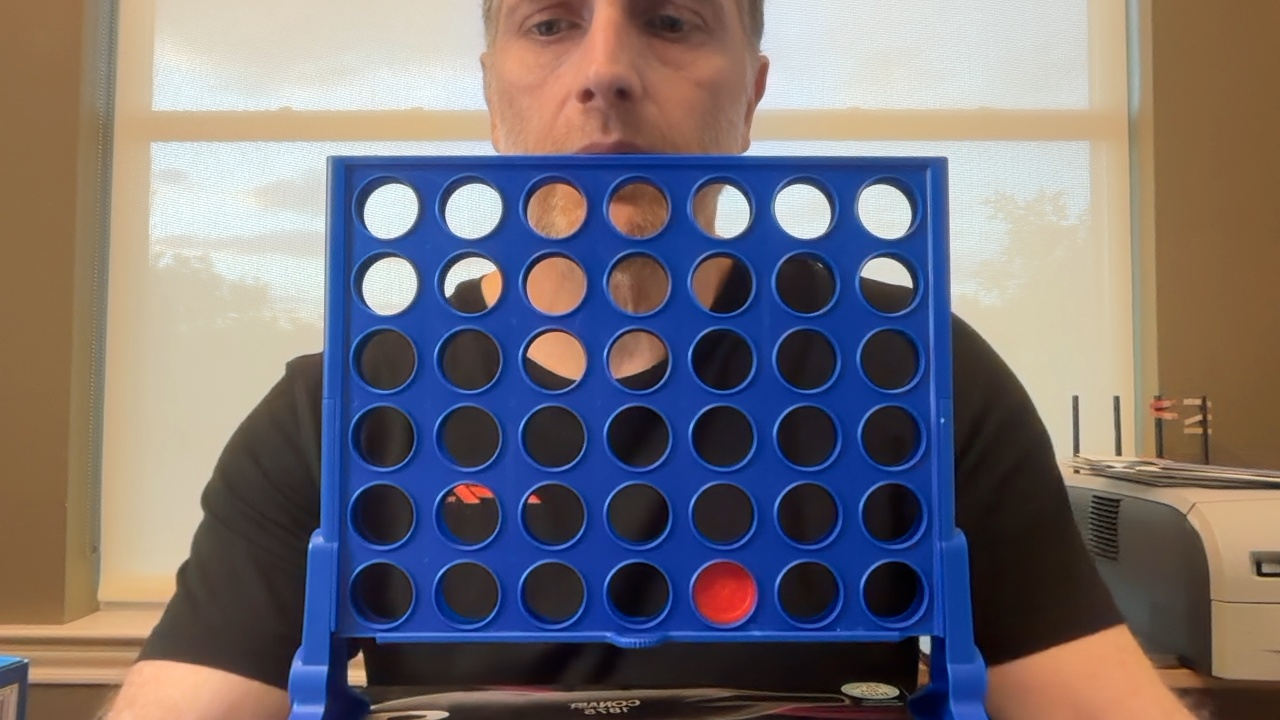red piece: (693, 561, 757, 625)
